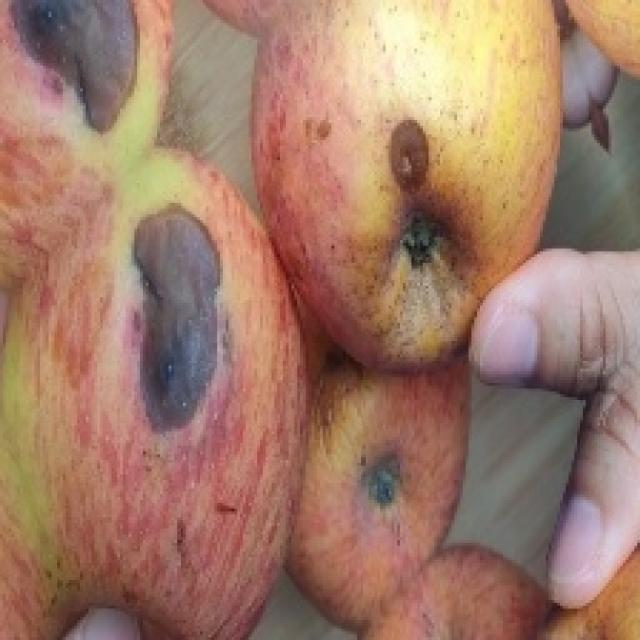rotten_apple: (28, 148, 301, 634), (260, 0, 552, 324), (304, 359, 457, 612), (0, 0, 171, 140)
